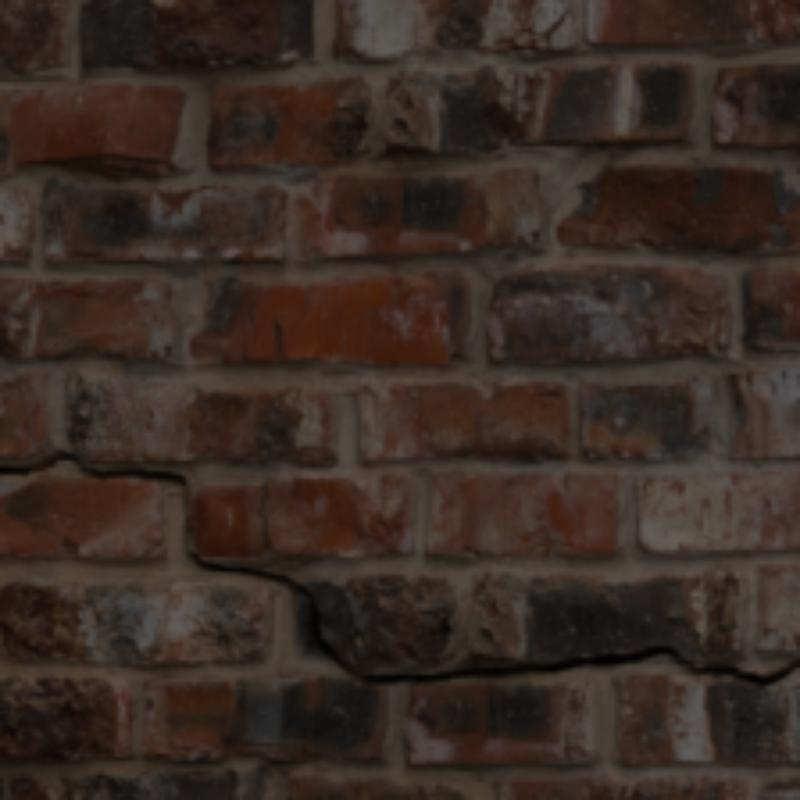pothole: (182, 506, 796, 682), (0, 450, 184, 498), (261, 493, 271, 554)
